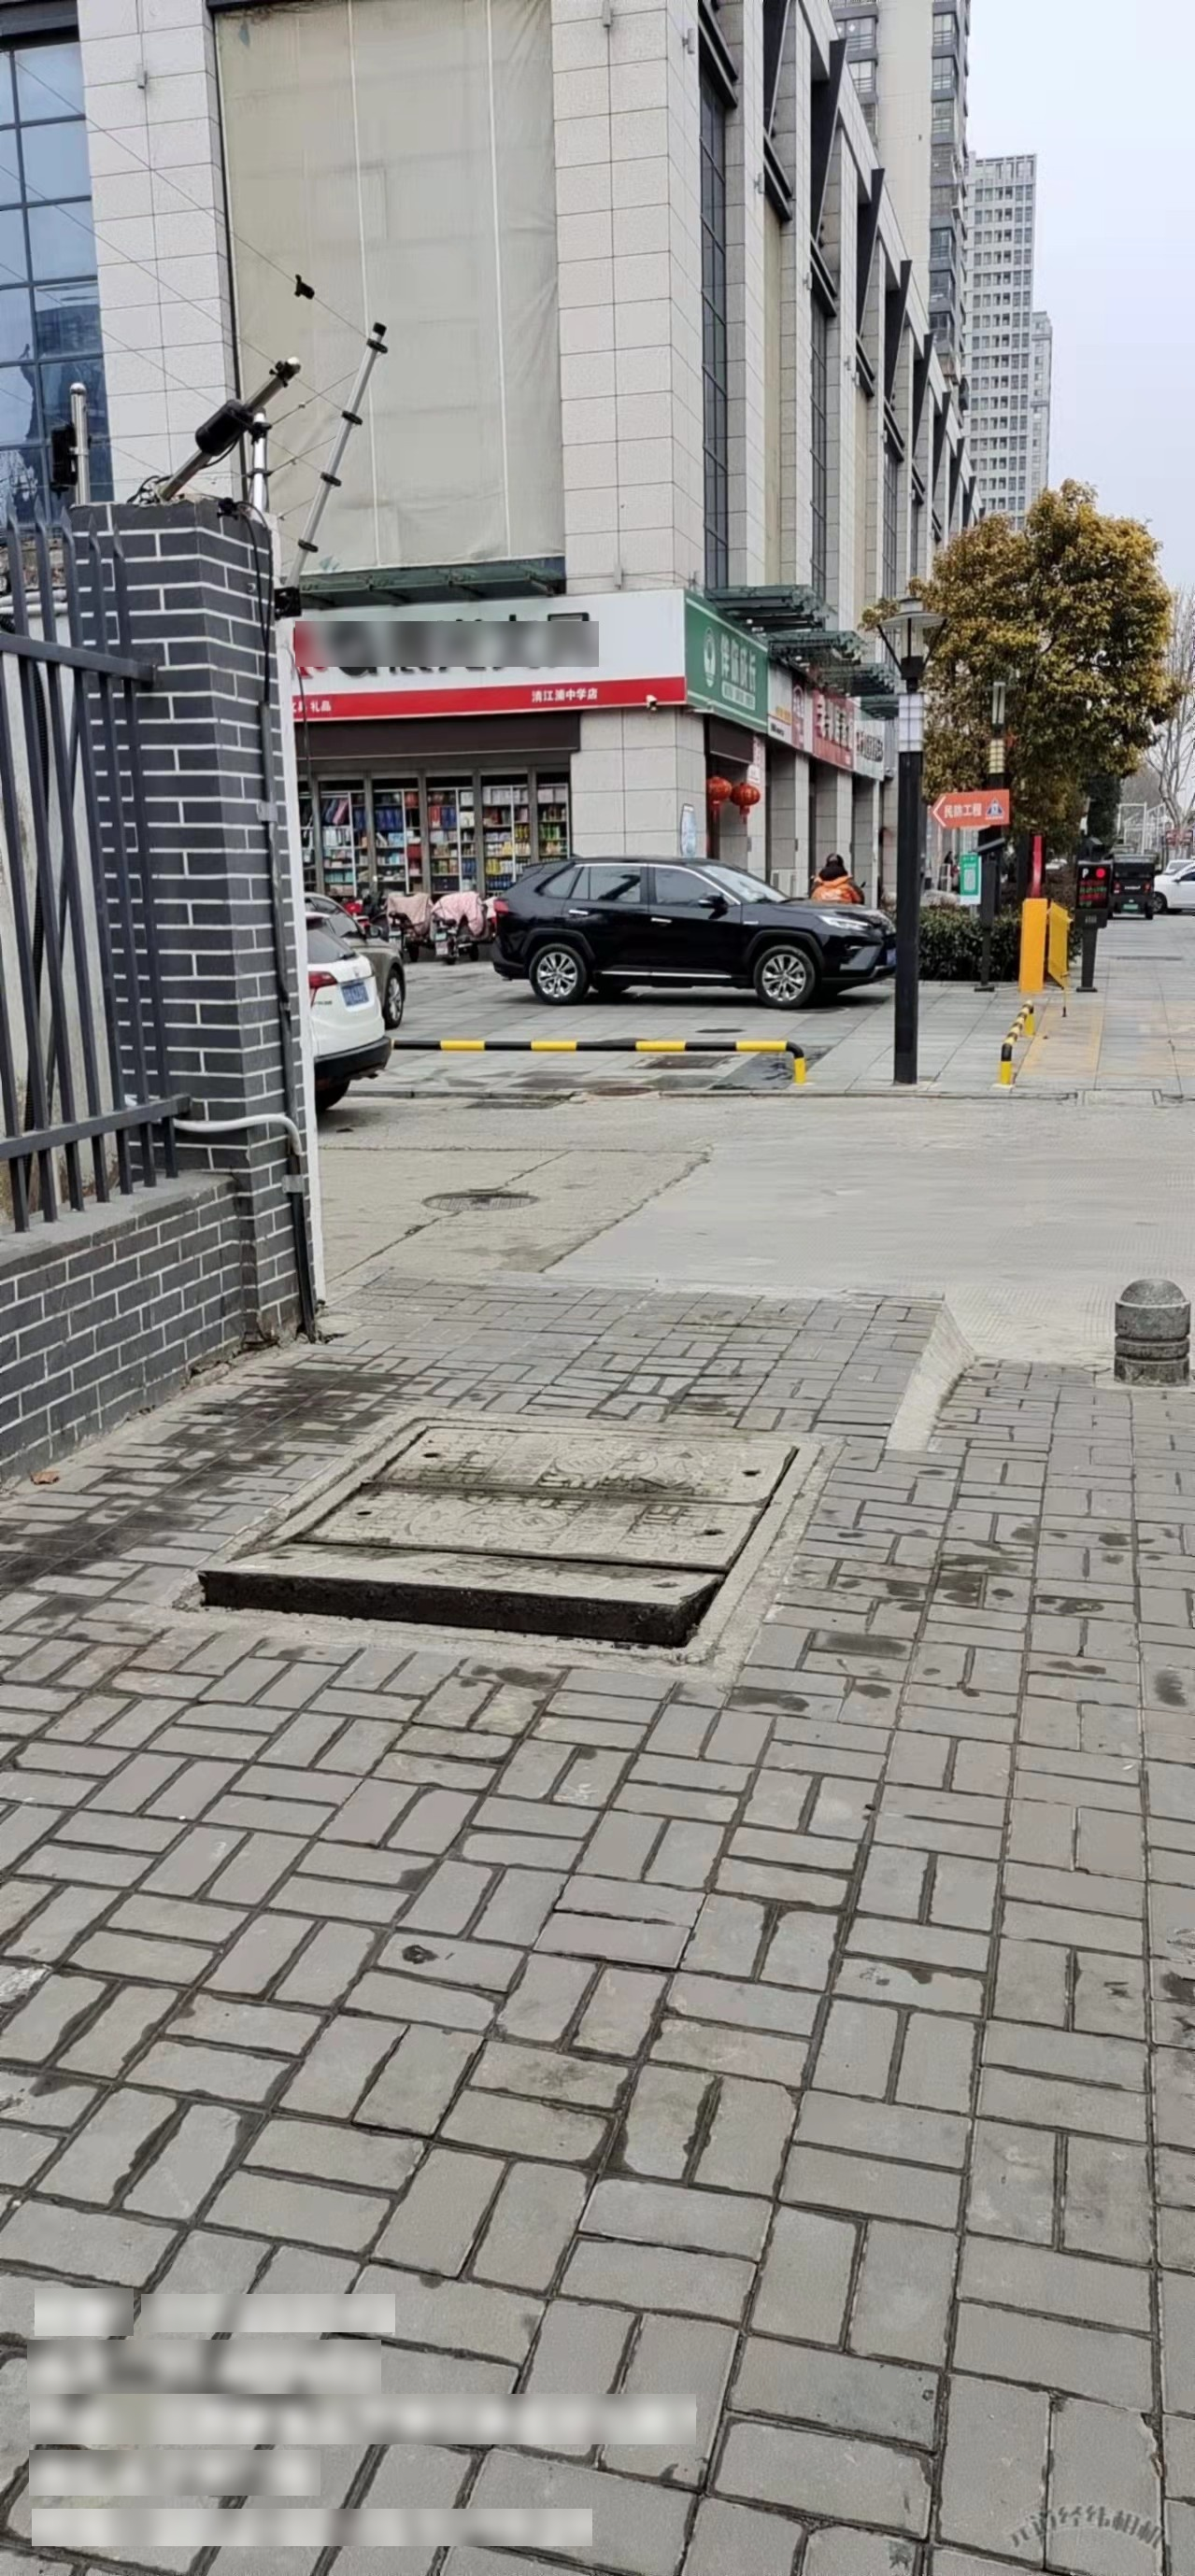uncovered: (176, 1410, 819, 1654)
